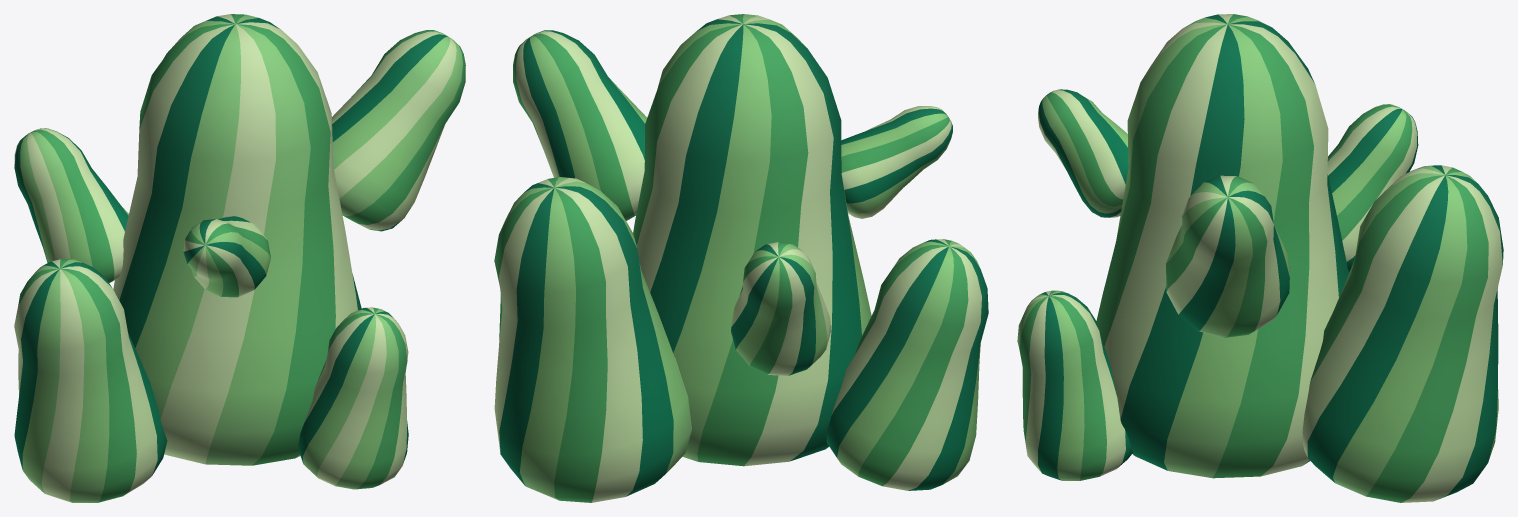
The model's file is cw_PlantsFlowers_17.fbx.
The picture shows the model from 3 angles, left to right: view 1: azimuth 30°, elevation 25°; view 2: azimuth 150°, elevation 25°; view 3: azimuth 270°, elevation 25°; orthographic projection. The views are drawn at different scales.
Visible parts, largest first — view 1: cw_pf_17; view 2: cw_pf_17; view 3: cw_pf_17.
Boxes of the visible parts, bbox=[...] form: cw_pf_17: bbox=[14, 14, 465, 502]; cw_pf_17: bbox=[494, 14, 988, 502]; cw_pf_17: bbox=[1017, 14, 1503, 502].
Bounding box in the file's own units: 175 × 156 × 159.
